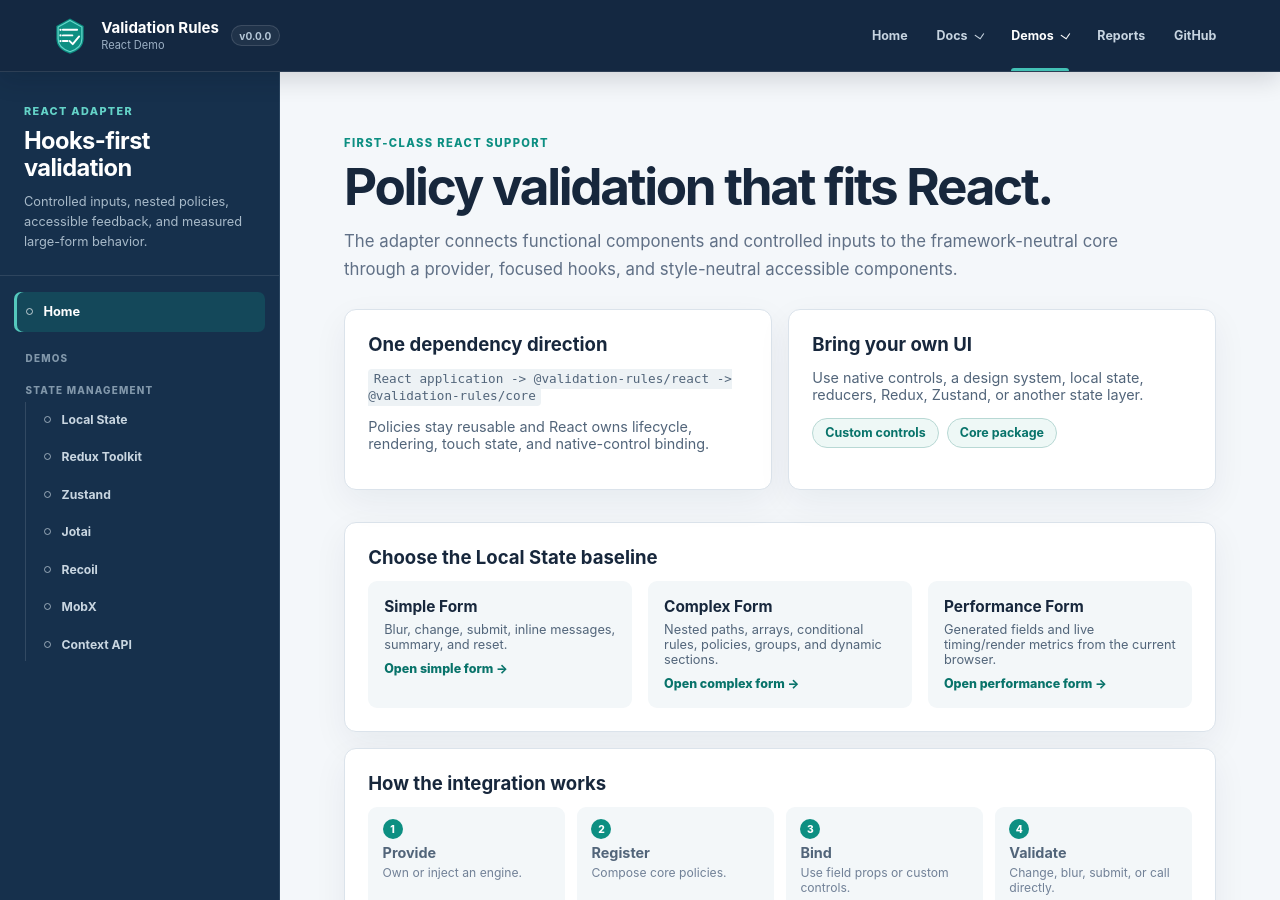
Scenario: React demo application › uses home example links as client-side navigation
Click the link "Open complex form ->".
click(732, 683)  # box top-left (664, 676), bottom-right (800, 691)
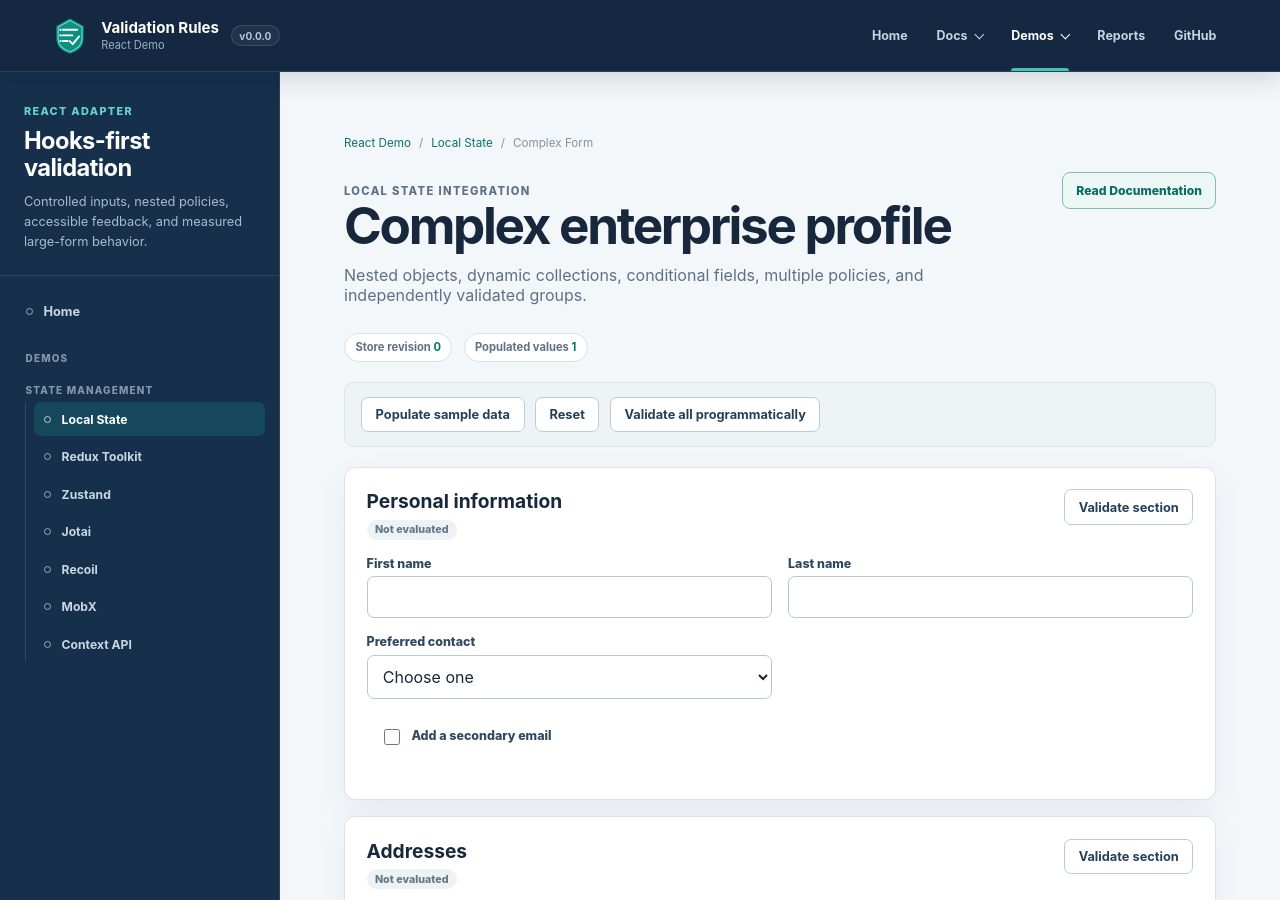
Now the heading "Complex enterprise profile" is shown, box top-left (344, 198), bottom-right (1030, 253)
